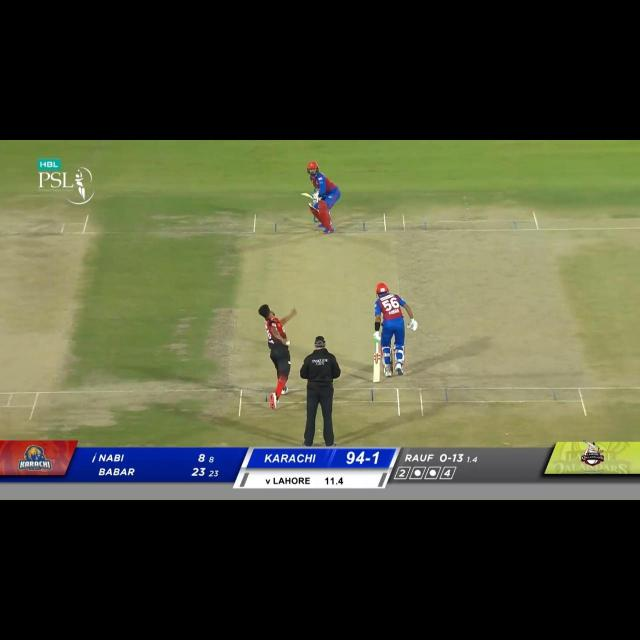bat: (372, 354, 382, 384), (299, 191, 314, 200)
toe: (372, 377, 381, 384), (299, 192, 305, 198)
